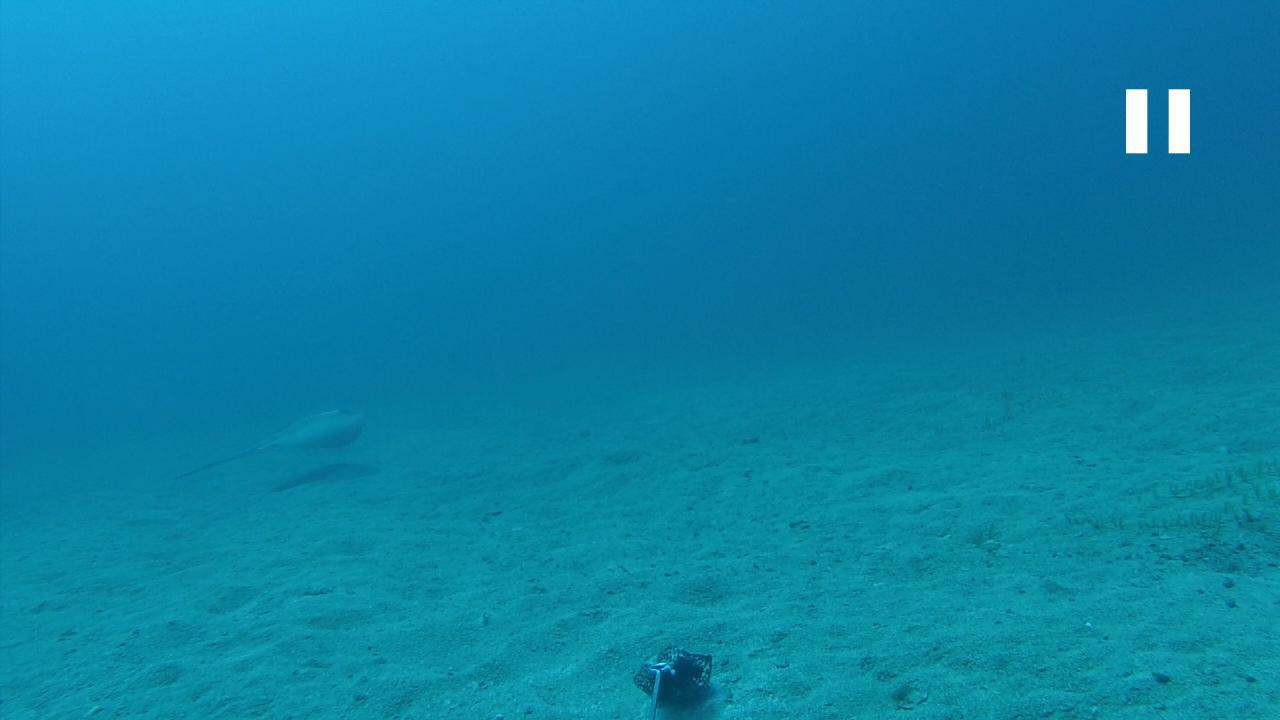dasyatis: (167, 404, 364, 485)
